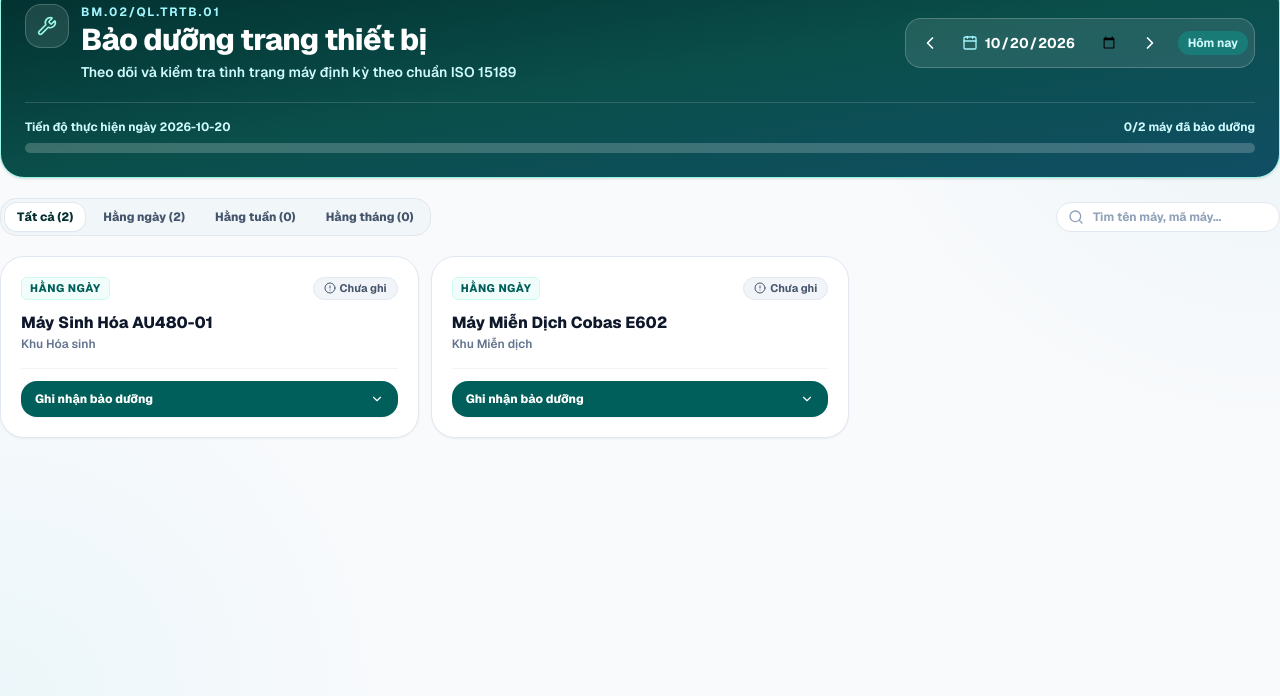
TASK 02A.1: Inline Editing & Live Updates for Maintenance (/maintenance) › 4. Keeps user content and shows clear error message on server error with retry
Click the button "Ghi nhận bảo dưỡng" below "Khu Hóa sinh" at [94, 398], box [21,380,398,416]
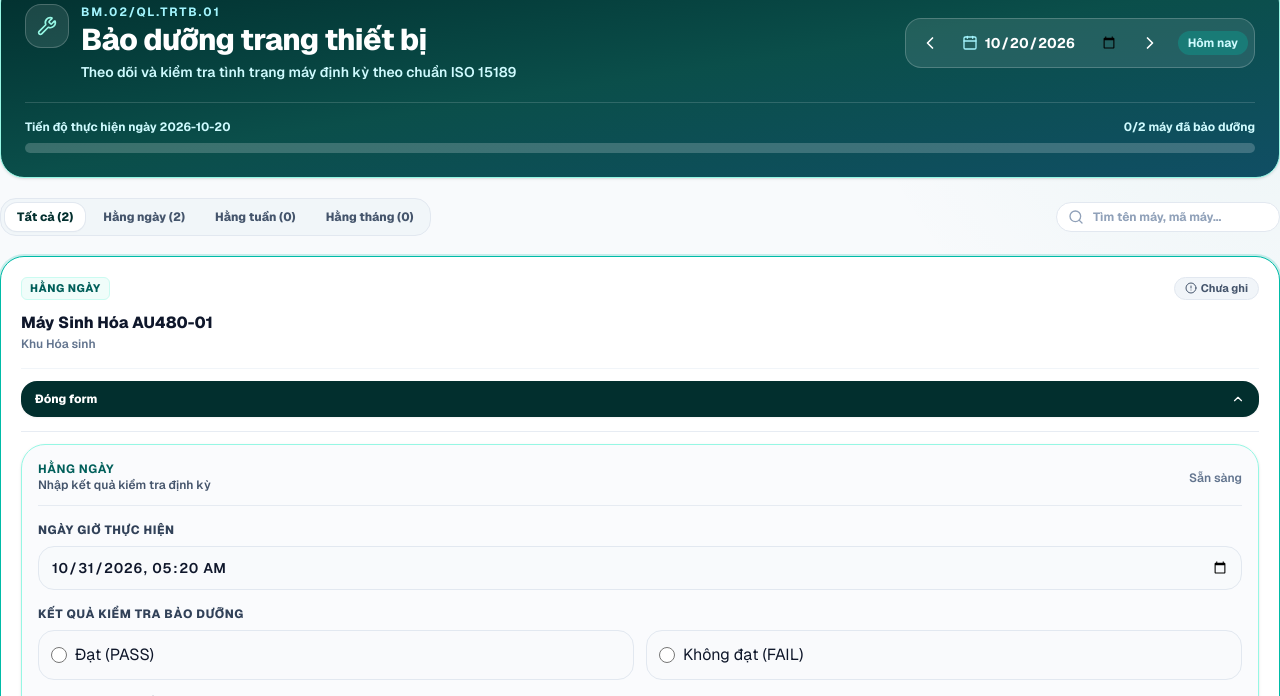
// Fill data
Click the radio button labelled "Đạt (PASS)" at [59, 654], box [51,646,67,662]
(page scrolled)
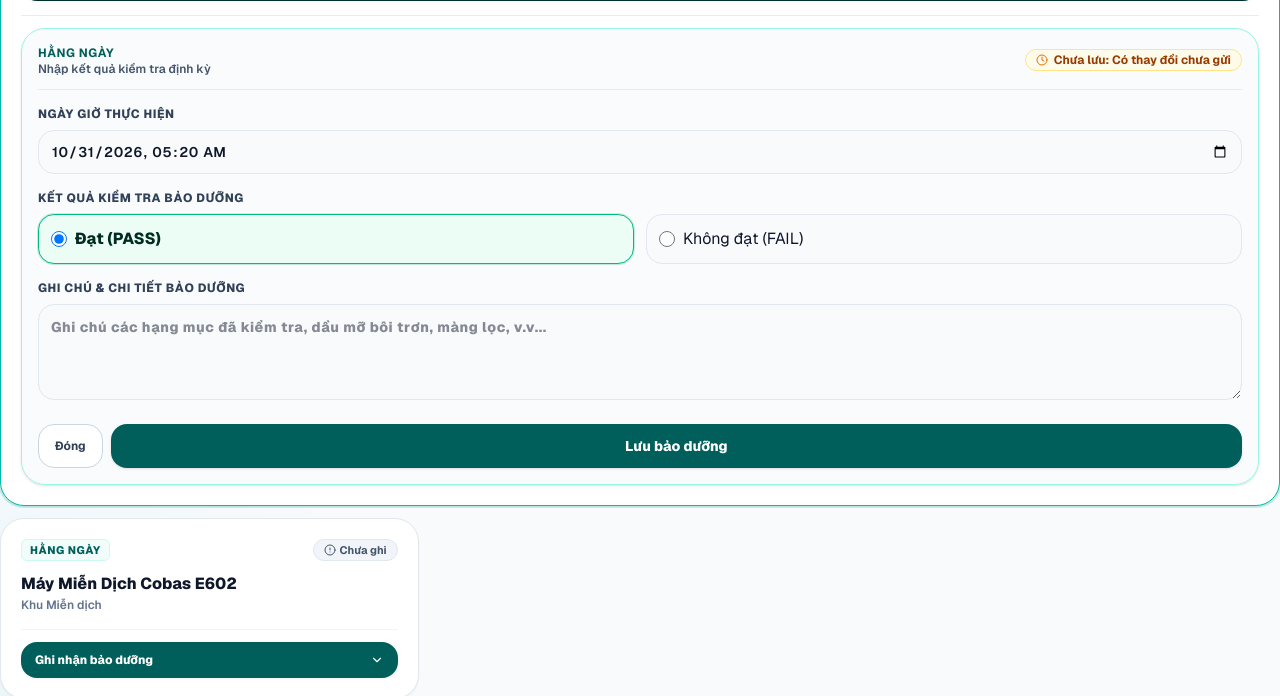
Replace the text in the text box with placeholder "Ghi chú các hạng mục" with "Nội dung quan trọng cần giữ" at [640, 352], box [38,304,1242,400]
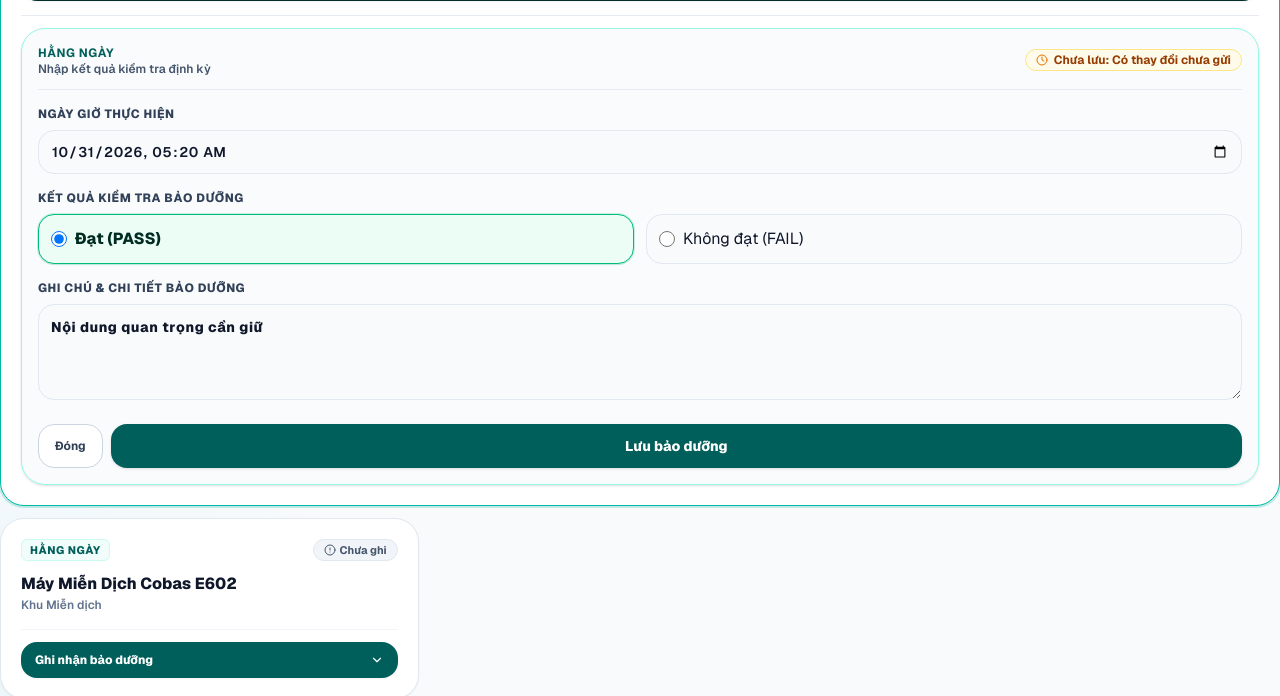
Click the button "Lưu bảo dưỡng" at [676, 446], box [111,424,1242,468]
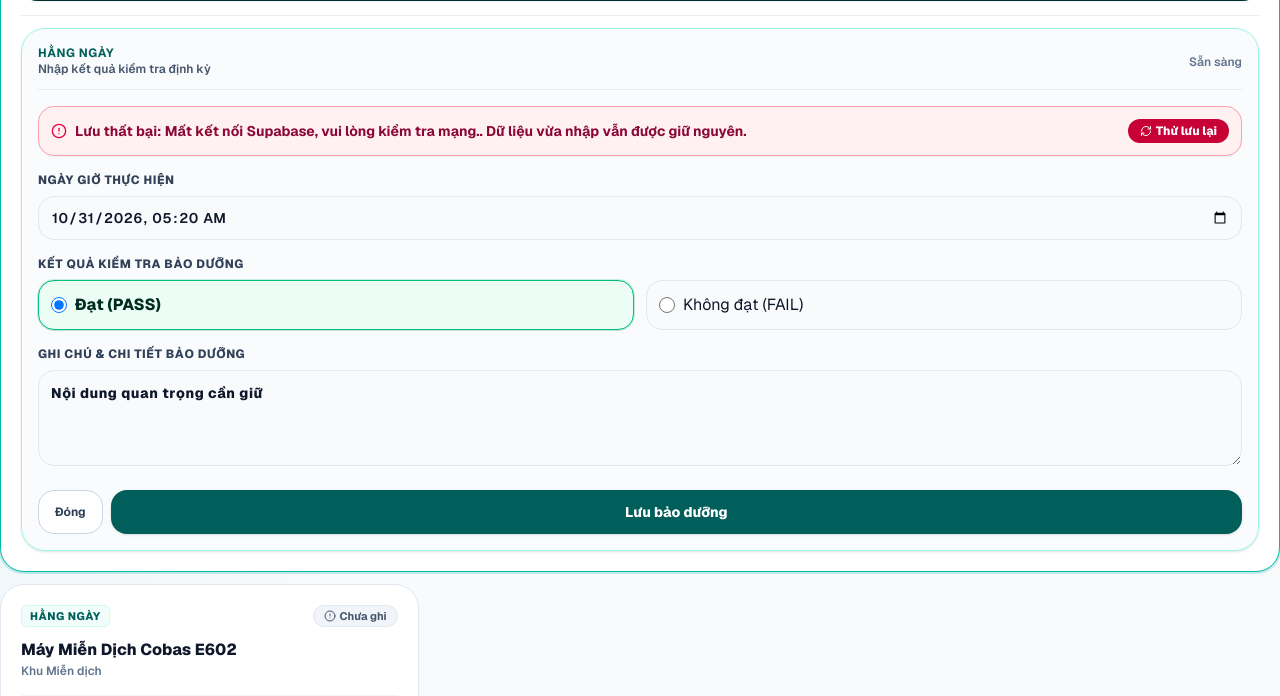
Now the radio button labelled "Đạt (PASS)" is checked, box [51,296,67,312]
Now the message is shown, box [38,106,1242,156]
Now the text "Mất kết nối Supabase, vui lòng kiểm tra mạng" is shown, box [165,122,480,140]
